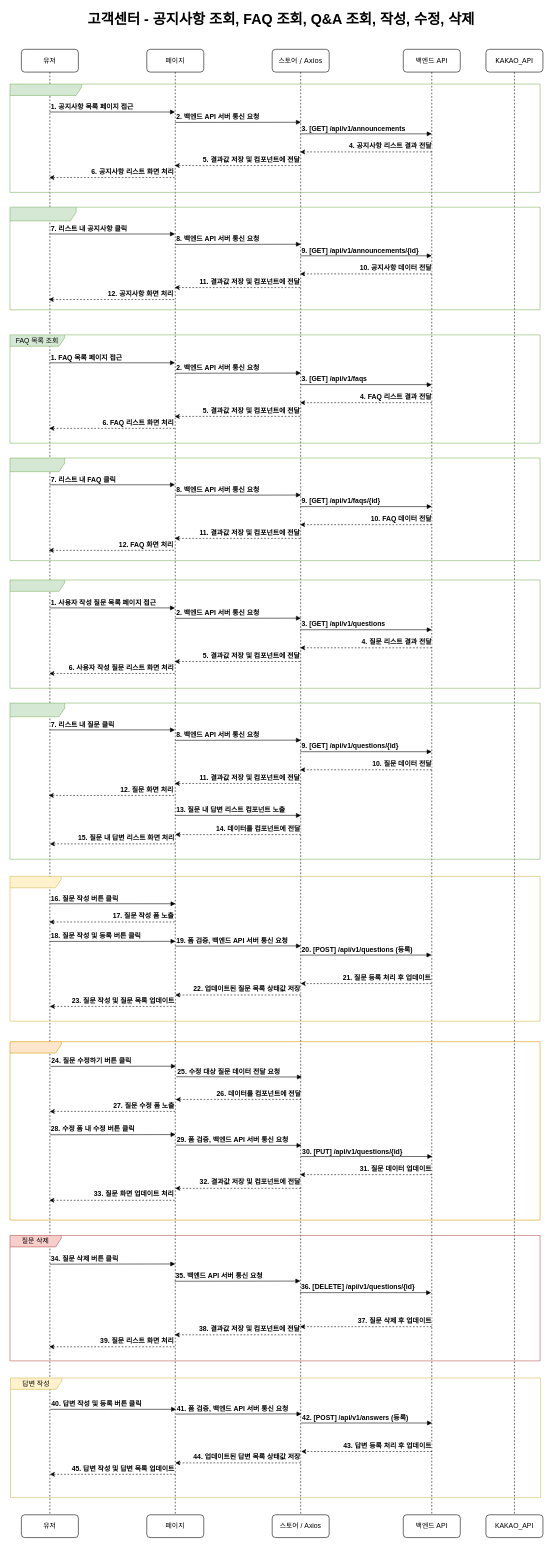
Some shapes in this 553 by 1548 pixel diagram are drawn without their labels. Here are the shapes that lost their labels. From the top down, the centre of each, then its label:
pixel 274 138: 공지사항 목록 조회
pixel 274 258: 공지사항 단건 조회
pixel 274 509: FAQ 단건 조회
pixel 274 633: 질문 목록 조회
pixel 274 781: 질문 단건 조회
pixel 274 948: 질문 작성
pixel 274 1130: 질문 수정
